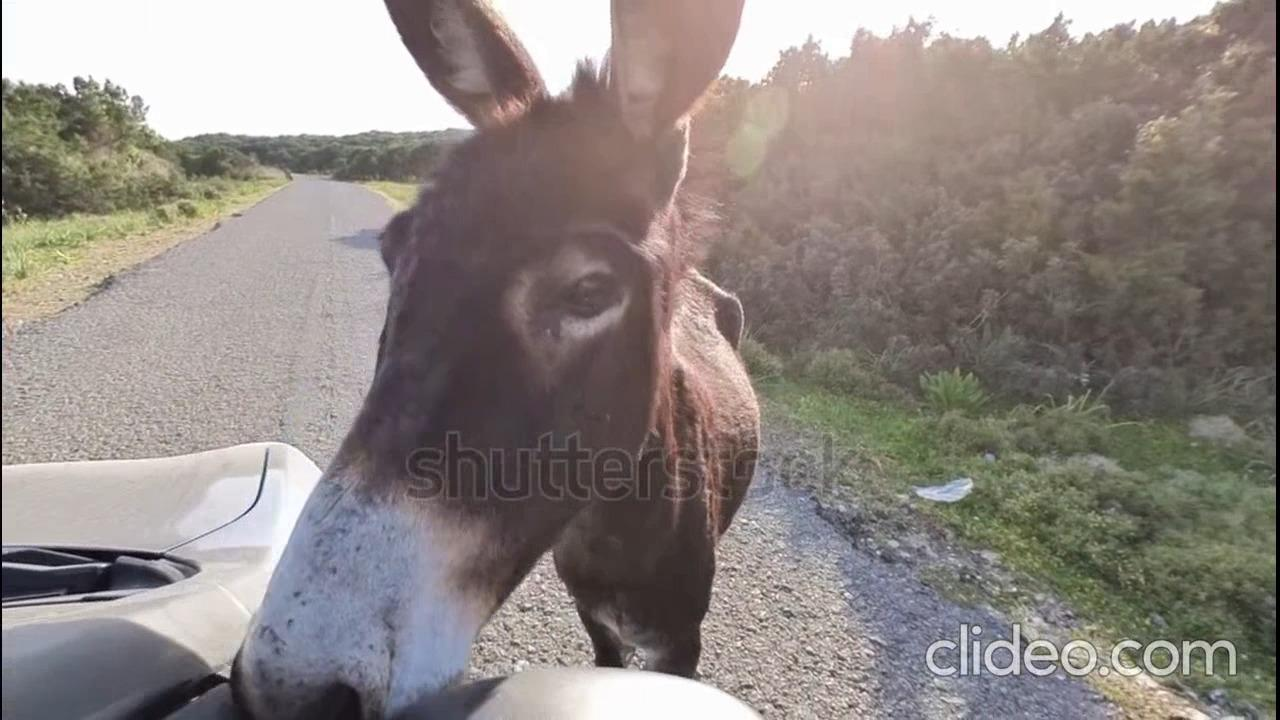Donkey: (227, 0, 740, 720)
